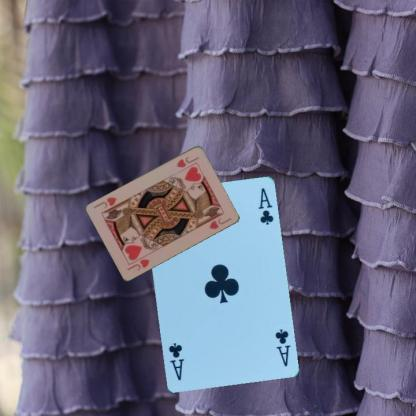Ac: (272, 326, 292, 367)
Jh: (124, 256, 151, 272), (174, 153, 200, 169)
